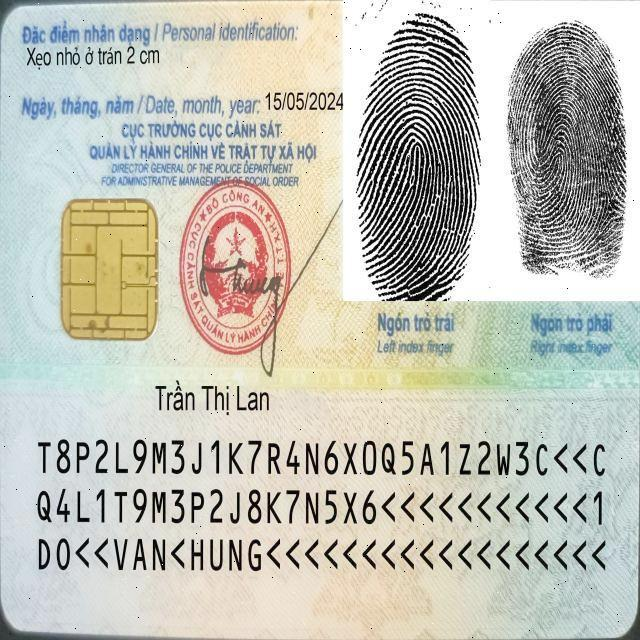features: (23, 44, 168, 70)
finger_print: (348, 5, 500, 358), (504, 1, 640, 356)
issue_date: (263, 87, 347, 115)
